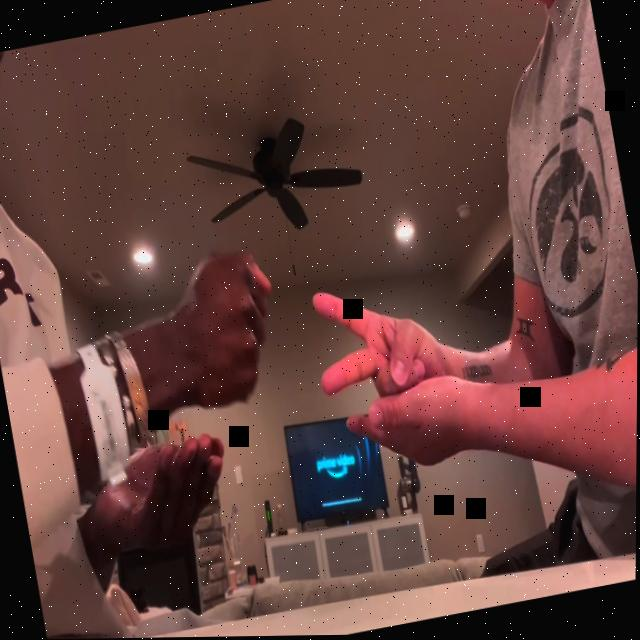Rock: (169, 239, 292, 415)
Scissors: (307, 271, 450, 413)
